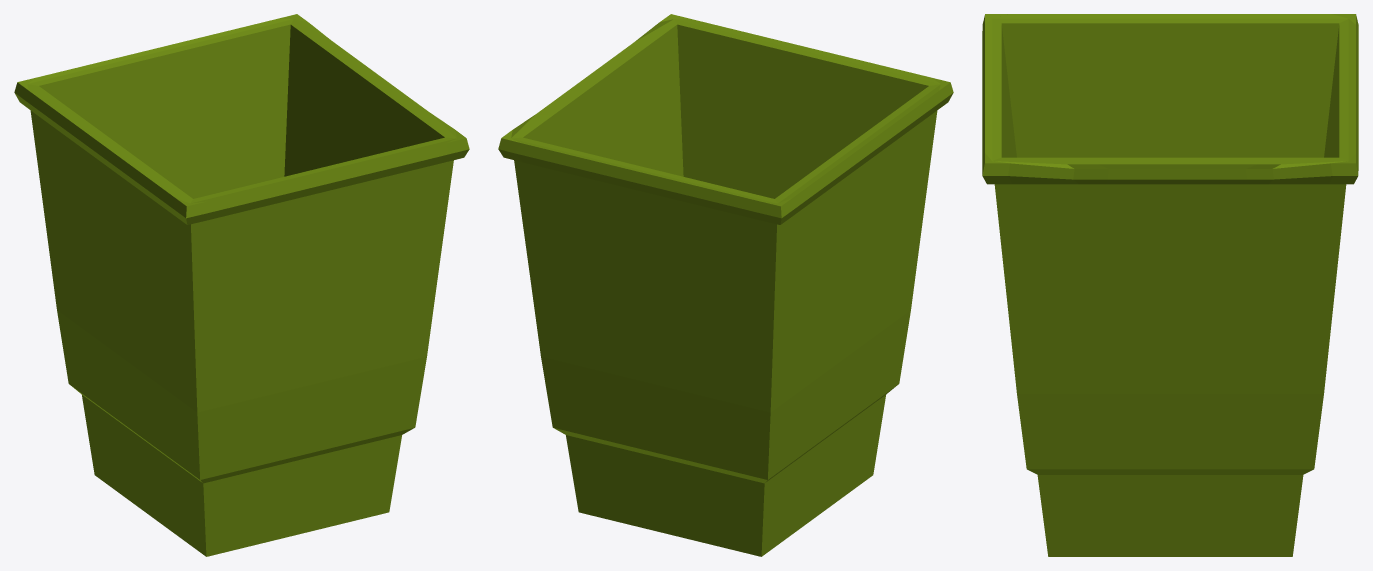
File: trash_nolid.FBX
3 renders of one model, left to right at view 1: azimuth 30°, elevation 25°; view 2: azimuth 150°, elevation 25°; view 3: azimuth 270°, elevation 25°, orthographic. The views are drawn at different scales.
Visible parts, largest first — view 1: Box001; view 2: Box001; view 3: Box001.
Part boxes in pixels (bbox=[...]): Box001: bbox=[14, 14, 469, 556]; Box001: bbox=[498, 14, 953, 556]; Box001: bbox=[982, 14, 1358, 556].
Size of the model in its own units: 38.22 by 49.39 by 40.14.
